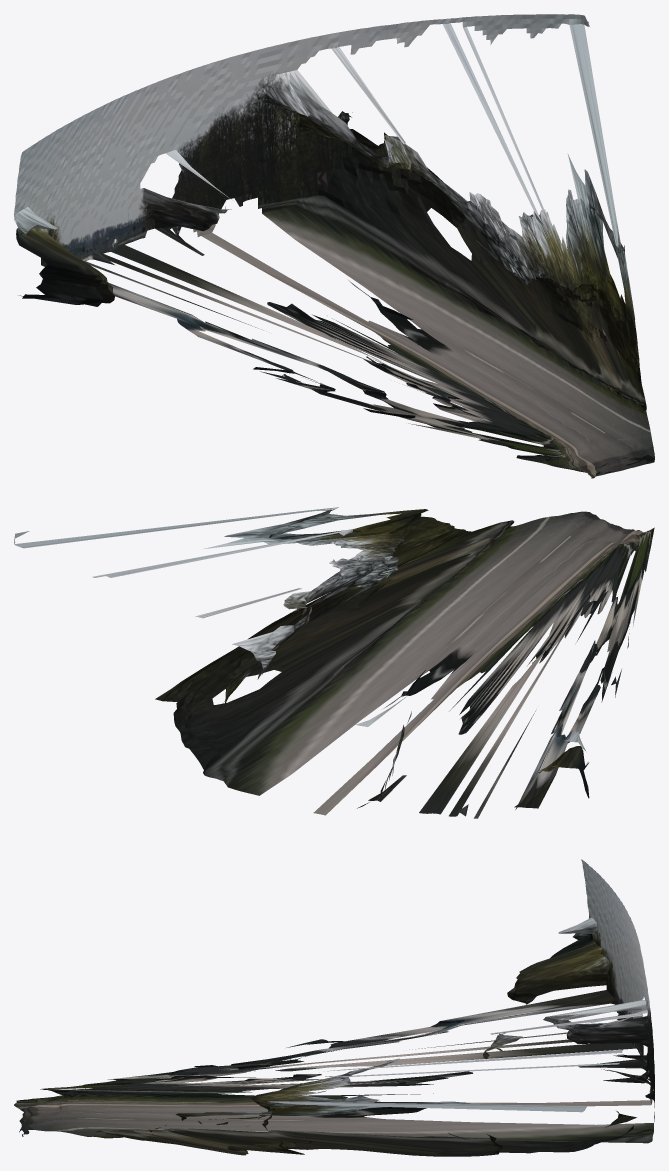
The picture shows the model from 3 angles, top to bottom: view 1: azimuth 30°, elevation 25°; view 2: azimuth 150°, elevation 25°; view 3: azimuth 270°, elevation 25°; orthographic projection. The views are drawn at different scales.
Visible parts, largest first — view 1: defaultobject; view 2: defaultobject; view 3: defaultobject.
Boxes of the visible parts, bbox=[...] form: defaultobject: bbox=[14, 14, 654, 478]; defaultobject: bbox=[14, 507, 654, 818]; defaultobject: bbox=[14, 859, 654, 1156].
Size of the model in its own units: 40.69 by 12.08 by 44.7.
Materials: 1 (1 with a texture image).
